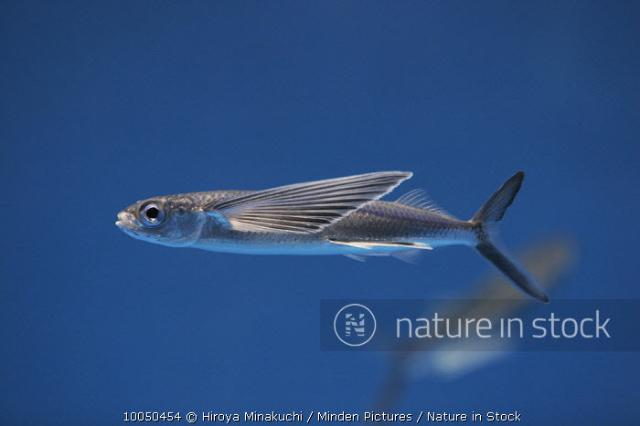Mulut: (102, 195, 144, 248)
Sirip Dada: (205, 166, 411, 233)
Sirip Ekor: (463, 160, 563, 314)
Sirip Perut: (338, 243, 392, 278)
Sirip Punggung: (392, 181, 458, 227)
